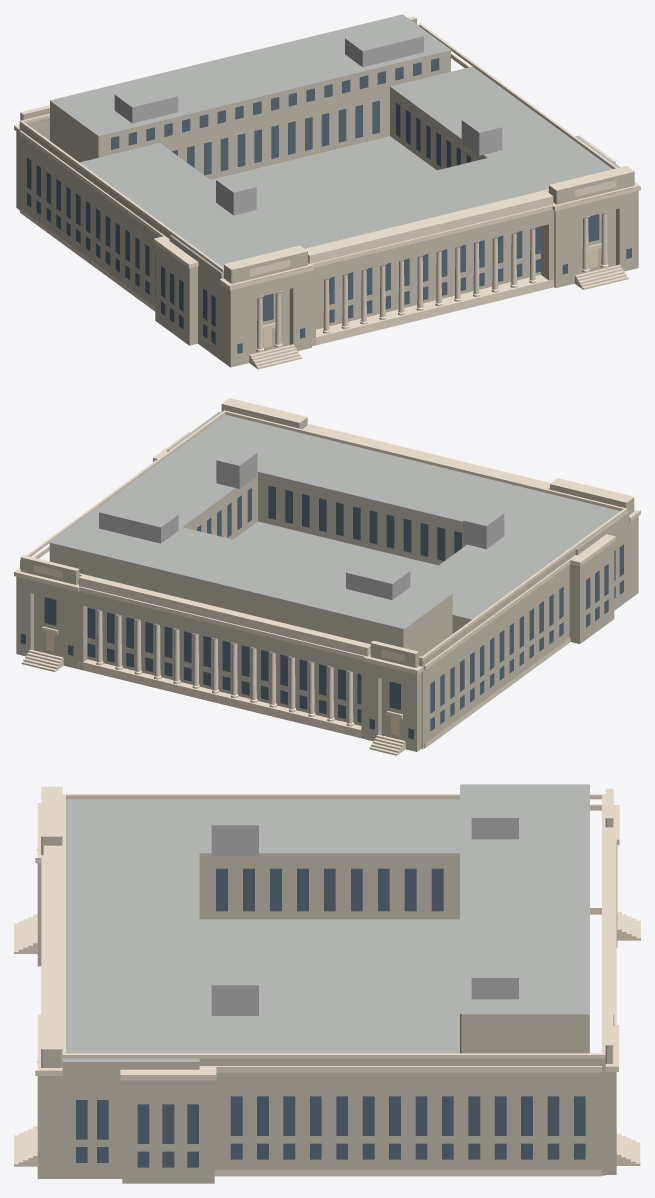
File: indy-birch-bayh-federal-building.glb
The picture shows the model from 3 angles, top to bottom: view 1: azimuth 30°, elevation 25°; view 2: azimuth 150°, elevation 25°; view 3: azimuth 270°, elevation 25°; orthographic projection. The views are drawn at different scales.
Visible parts, largest first — view 1: Birch Bayh Federal Building and U.S. Courthouse; view 2: Birch Bayh Federal Building and U.S. Courthouse; view 3: Birch Bayh Federal Building and U.S. Courthouse.
Part boxes in pixels (bbox=[...]): Birch Bayh Federal Building and U.S. Courthouse: bbox=[14, 14, 640, 369]; Birch Bayh Federal Building and U.S. Courthouse: bbox=[14, 398, 640, 755]; Birch Bayh Federal Building and U.S. Courthouse: bbox=[14, 784, 640, 1183].
Size of the model in its own units: 111 by 31.2 by 106.
